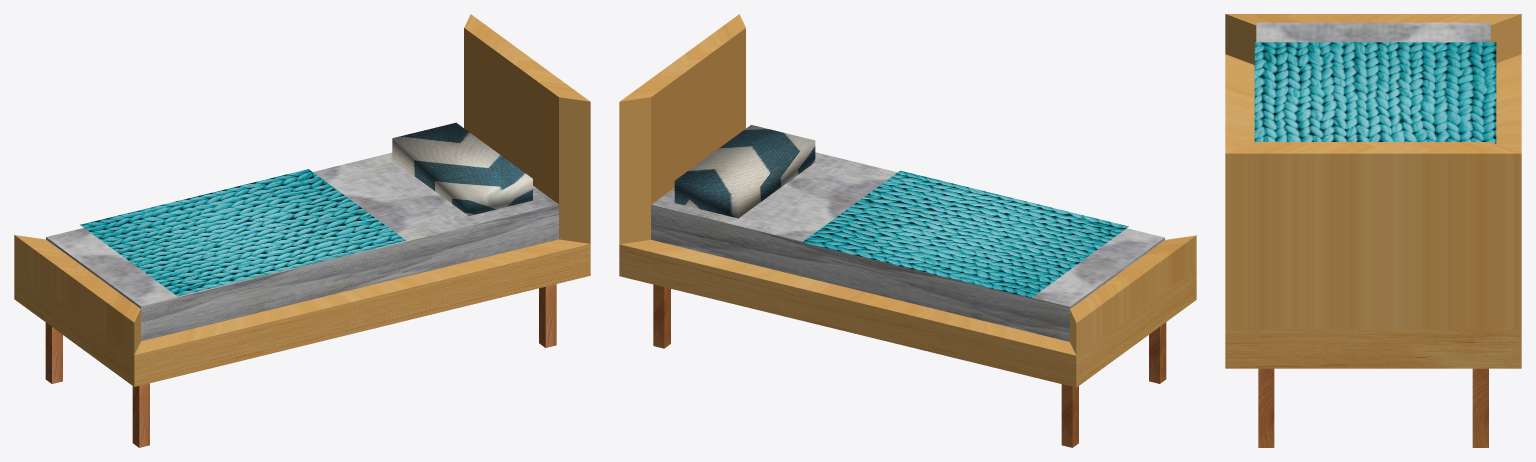
Rendered from Bed.fbx.
3 renders of one model, left to right at view 1: azimuth 30°, elevation 25°; view 2: azimuth 150°, elevation 25°; view 3: azimuth 270°, elevation 25°, orthographic. The views are drawn at different scales.
Parts seen in each view (by area): view 1: Frame, Mattress, Blanket, Pillow, Legs; view 2: Frame, Mattress, Blanket, Pillow, Legs; view 3: Frame, Blanket, Mattress, Legs.
Boxes of the visible parts, x1,y1,x2,y2 form: Frame: [14, 14, 590, 386]; Mattress: [46, 153, 558, 341]; Blanket: [80, 169, 405, 296]; Pillow: [392, 122, 532, 215]; Legs: [45, 284, 556, 447]; Frame: [619, 14, 1196, 387]; Mattress: [651, 152, 1164, 341]; Blanket: [802, 170, 1128, 297]; Pillow: [674, 125, 815, 218]; Legs: [653, 284, 1166, 447]; Frame: [1225, 14, 1521, 368]; Blanket: [1254, 42, 1496, 143]; Mattress: [1256, 22, 1490, 42]; Legs: [1258, 368, 1488, 447].
Size of the model in its own units: 1429 by 744 by 650.
